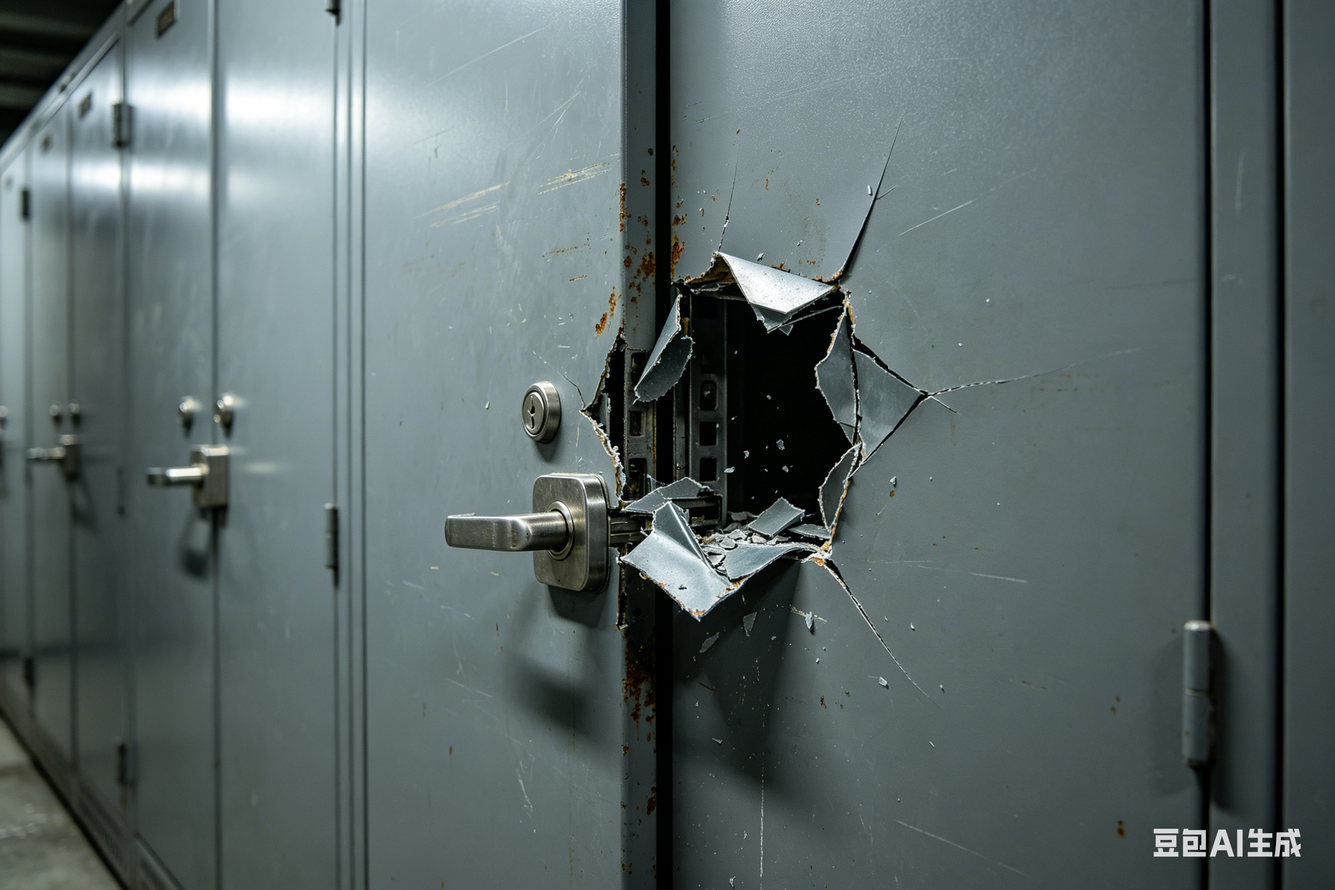BadLock: (535, 444, 831, 615)
